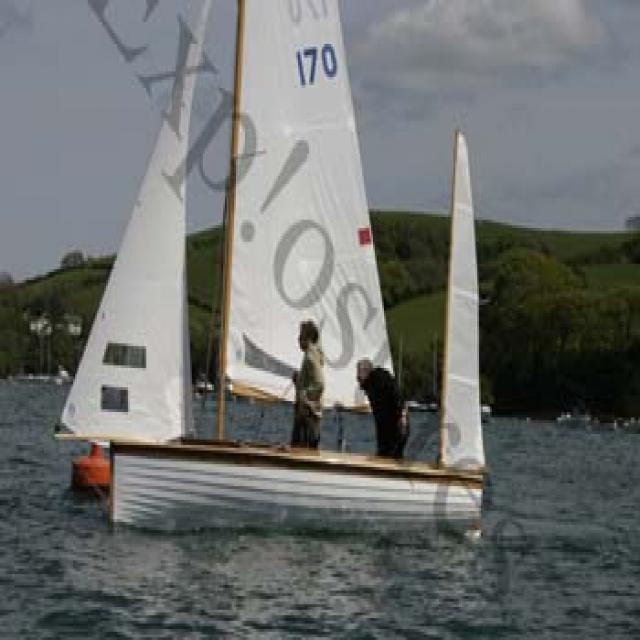Ship: (60, 7, 492, 547)
